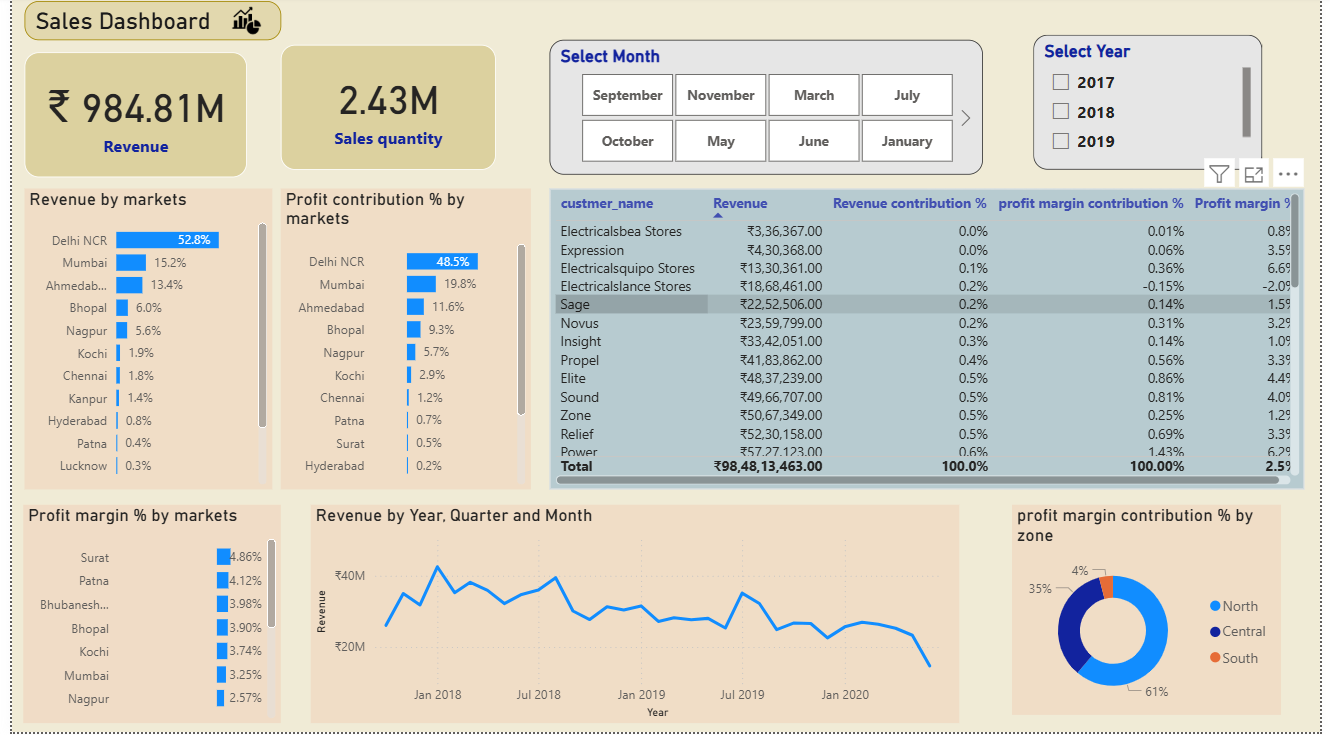

Layout of this report page (visuals, bound fields, positions):
{"tool":"powerbi","page":{"name":"Page 1","canvas":[1280,720],"ordinal":0},"visuals":[{"type":"card","fields":{"Values":["sales transactions.Revenue"]},"box":[12.2,55,217.7,122.3],"z":0},{"type":"card","fields":{"Values":["sales transactions.Sales quantity"]},"box":[262.9,47.7,210.3,122.3],"z":1000},{"type":"slicer","title":"Select Year","fields":{"Values":["sales date.year"]},"box":[999.1,37.9,223.8,132.1],"z":2000},{"type":"slicer","title":"Select Month","fields":{"Values":["sales date.month_name"]},"box":[525.8,42.8,424.3,132.1],"z":3000},{"type":"barChart","title":"Profit margin % by markets","fields":{"Y":["sales transactions.Profit margin %"],"Category":["sales markets.markets_name"]},"box":[11,497.7,251.9,214],"z":5000},{"type":"barChart","title":"Profit contribution  % by markets","fields":{"Category":["sales markets.markets_name"],"Y":["sales transactions.profit margin contribution %"]},"box":[262.9,188.3,244.6,294.7],"z":6000},{"type":"barChart","title":"Revenue  by markets","fields":{"Category":["sales markets.markets_name"],"Y":["sales transactions.Revenue contribution %"]},"box":[12.2,188.3,242.1,294.7],"z":7000},{"type":"donutChart","fields":{"Category":["sales markets.zone"],"Y":["sales transactions.profit margin contribution %"]},"box":[978.3,497.7,262.9,205.4],"z":9000},{"type":"lineChart","fields":{"Y":["sales transactions.Revenue"],"Category":["sales date.cy_date.Variation.Date Hierarchy.Year","sales date.cy_date.Variation.Date Hierarchy.Quarter","sales date.cy_date.Variation.Date Hierarchy.Month"]},"box":[292.3,497.7,634.7,214],"z":10000},{"type":"textbox","title":"   Sales Dashboard","box":[12.3,5.5,251.1,38.4],"z":11000},{"type":"image","box":[205.8,5.5,48,38.4],"z":12000},{"type":"tableEx","fields":{"Values":["sales customers.custmer_name","sales transactions.Revenue","sales transactions.Revenue contribution %","sales transactions.profit margin contribution %","sales transactions.Profit margin %"]},"box":[525.8,188.3,738.6,294.7],"z":12001}]}

Visuals, with their boxes in screenshot pixels (x1, y1, x2, y2), scaled from the page's 1280x720 canvas onto the 1330x735 screenshot:
card - sales transactions.Revenue: select_region(13, 56, 239, 181)
card - sales transactions.Sales quantity: select_region(273, 49, 492, 174)
"Select Year" slicer: select_region(1038, 39, 1271, 174)
"Select Month" slicer: select_region(546, 44, 987, 179)
"Profit margin % by markets" barChart: select_region(11, 508, 273, 727)
"Profit contribution  % by markets" barChart: select_region(273, 192, 527, 493)
"Revenue  by markets" barChart: select_region(13, 192, 264, 493)
donutChart - sales markets.zone x sales transactions.profit margin contribution %: select_region(1017, 508, 1290, 718)
lineChart - sales transactions.Revenue x sales date.cy_date.Variation.Date Hierarchy.Year: select_region(304, 508, 963, 727)
"   Sales Dashboard" textbox: select_region(13, 6, 274, 45)
image: select_region(214, 6, 264, 45)
tableEx - sales customers.custmer_name x sales transactions.Revenue: select_region(546, 192, 1314, 493)
